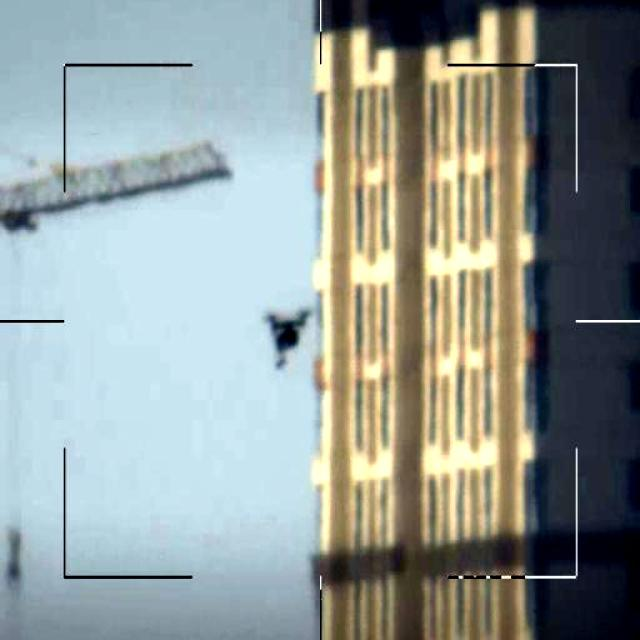bird: (265, 306, 312, 372)
